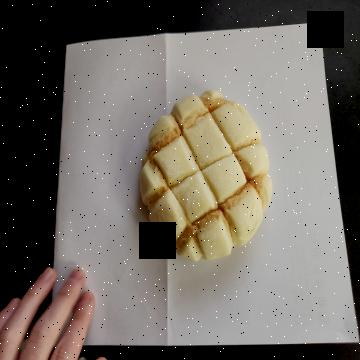melon_bread: (136, 90, 272, 264)
